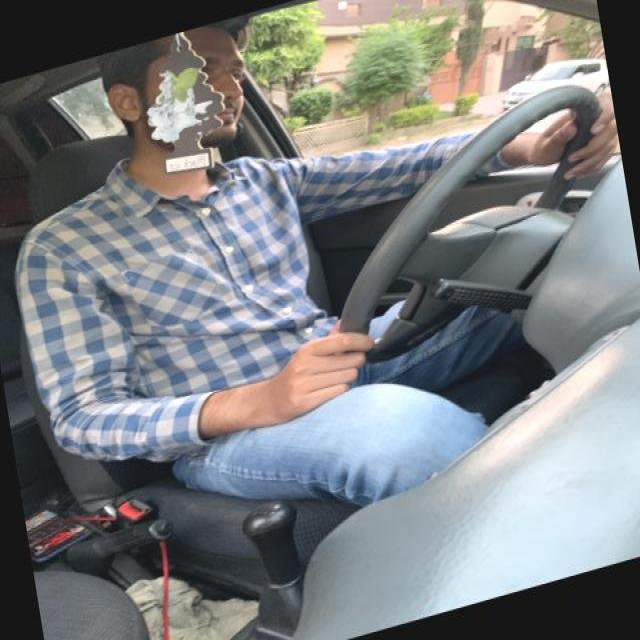no-seatbelt: (29, 156, 454, 548)
